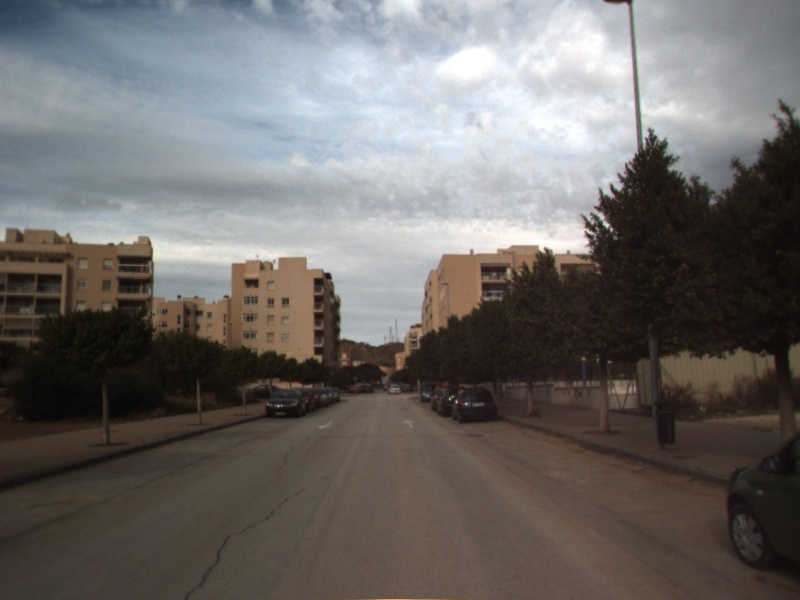STRAIGHT: (400, 418, 419, 430)
